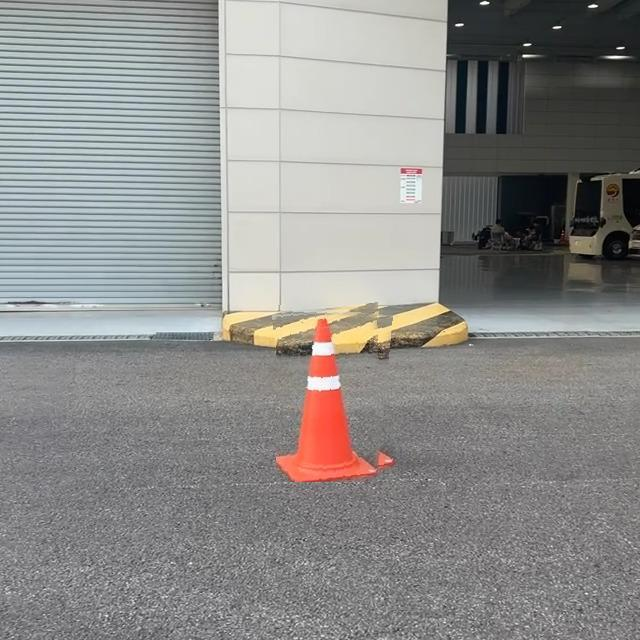fallen_object: (246, 305, 376, 498)
